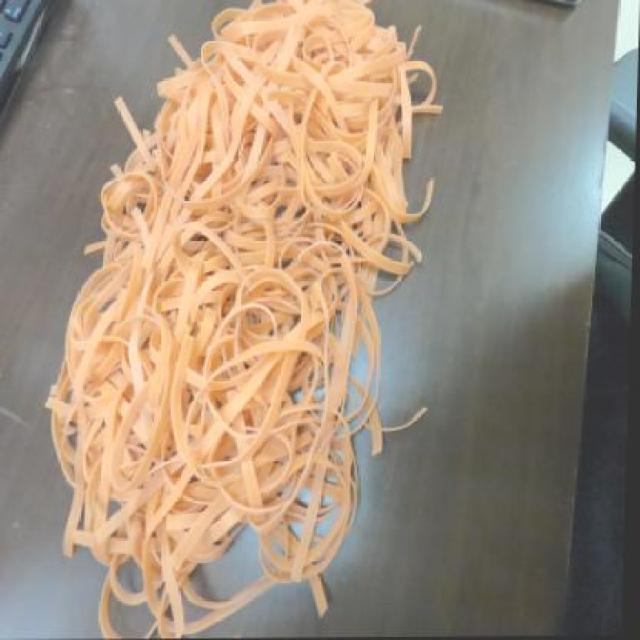Pasta: (43, 0, 438, 638)
